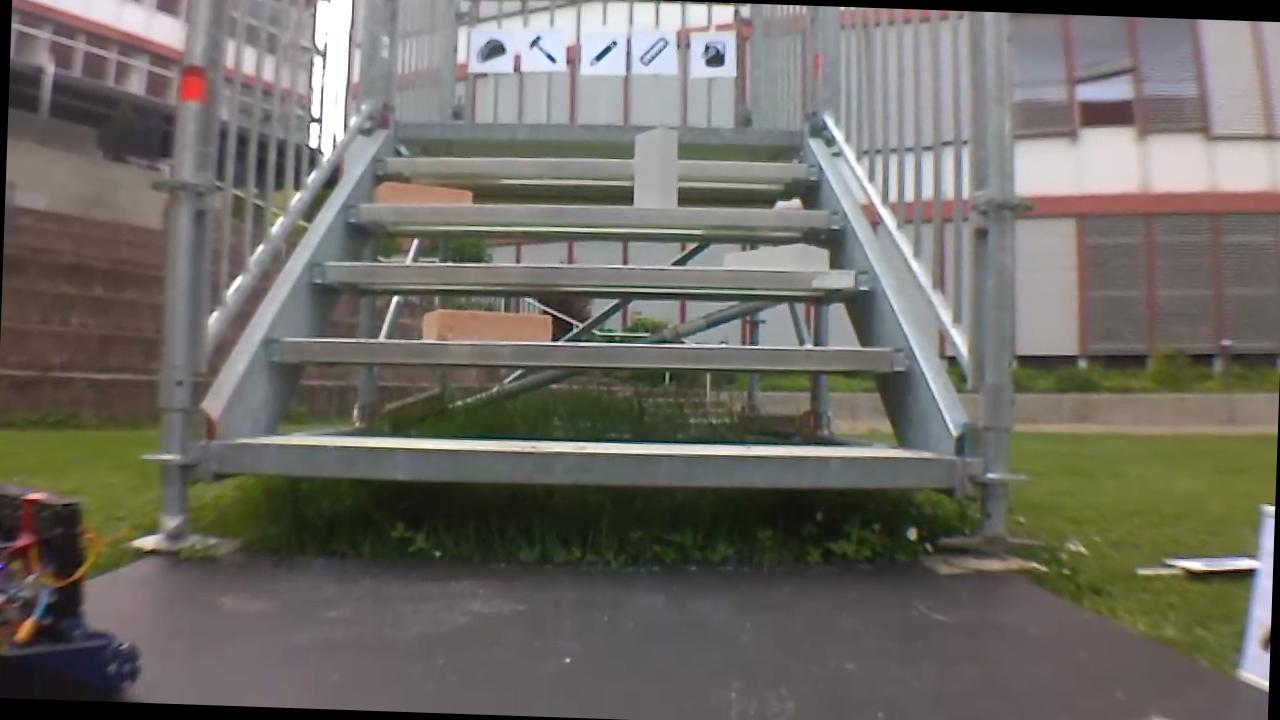brick: (422, 309, 552, 342), (633, 125, 679, 207), (374, 180, 471, 205)
bucket: (697, 36, 732, 73)
edge: (216, 433, 957, 497), (265, 325, 909, 378), (312, 251, 877, 297), (345, 192, 843, 234), (375, 148, 820, 185), (393, 116, 803, 148)
hammer: (523, 30, 562, 67)
pencil: (582, 34, 623, 70)
ruler: (636, 32, 670, 69)
steps: (213, 106, 974, 506)
taco: (471, 35, 510, 67)
